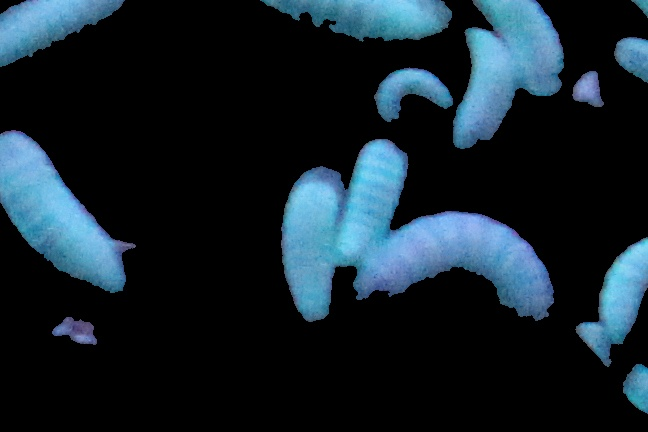larvae: (1, 129, 128, 294), (358, 213, 552, 320), (283, 168, 343, 321), (339, 138, 409, 267), (257, 1, 453, 44), (449, 26, 517, 148), (1, 1, 125, 67), (476, 1, 564, 86), (597, 234, 648, 344), (371, 67, 453, 125)
